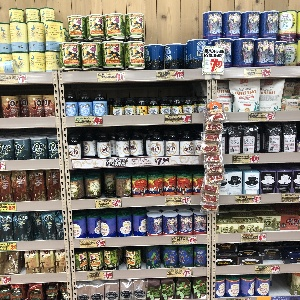void: (98, 168, 115, 199), (262, 241, 284, 263), (269, 274, 292, 295)
